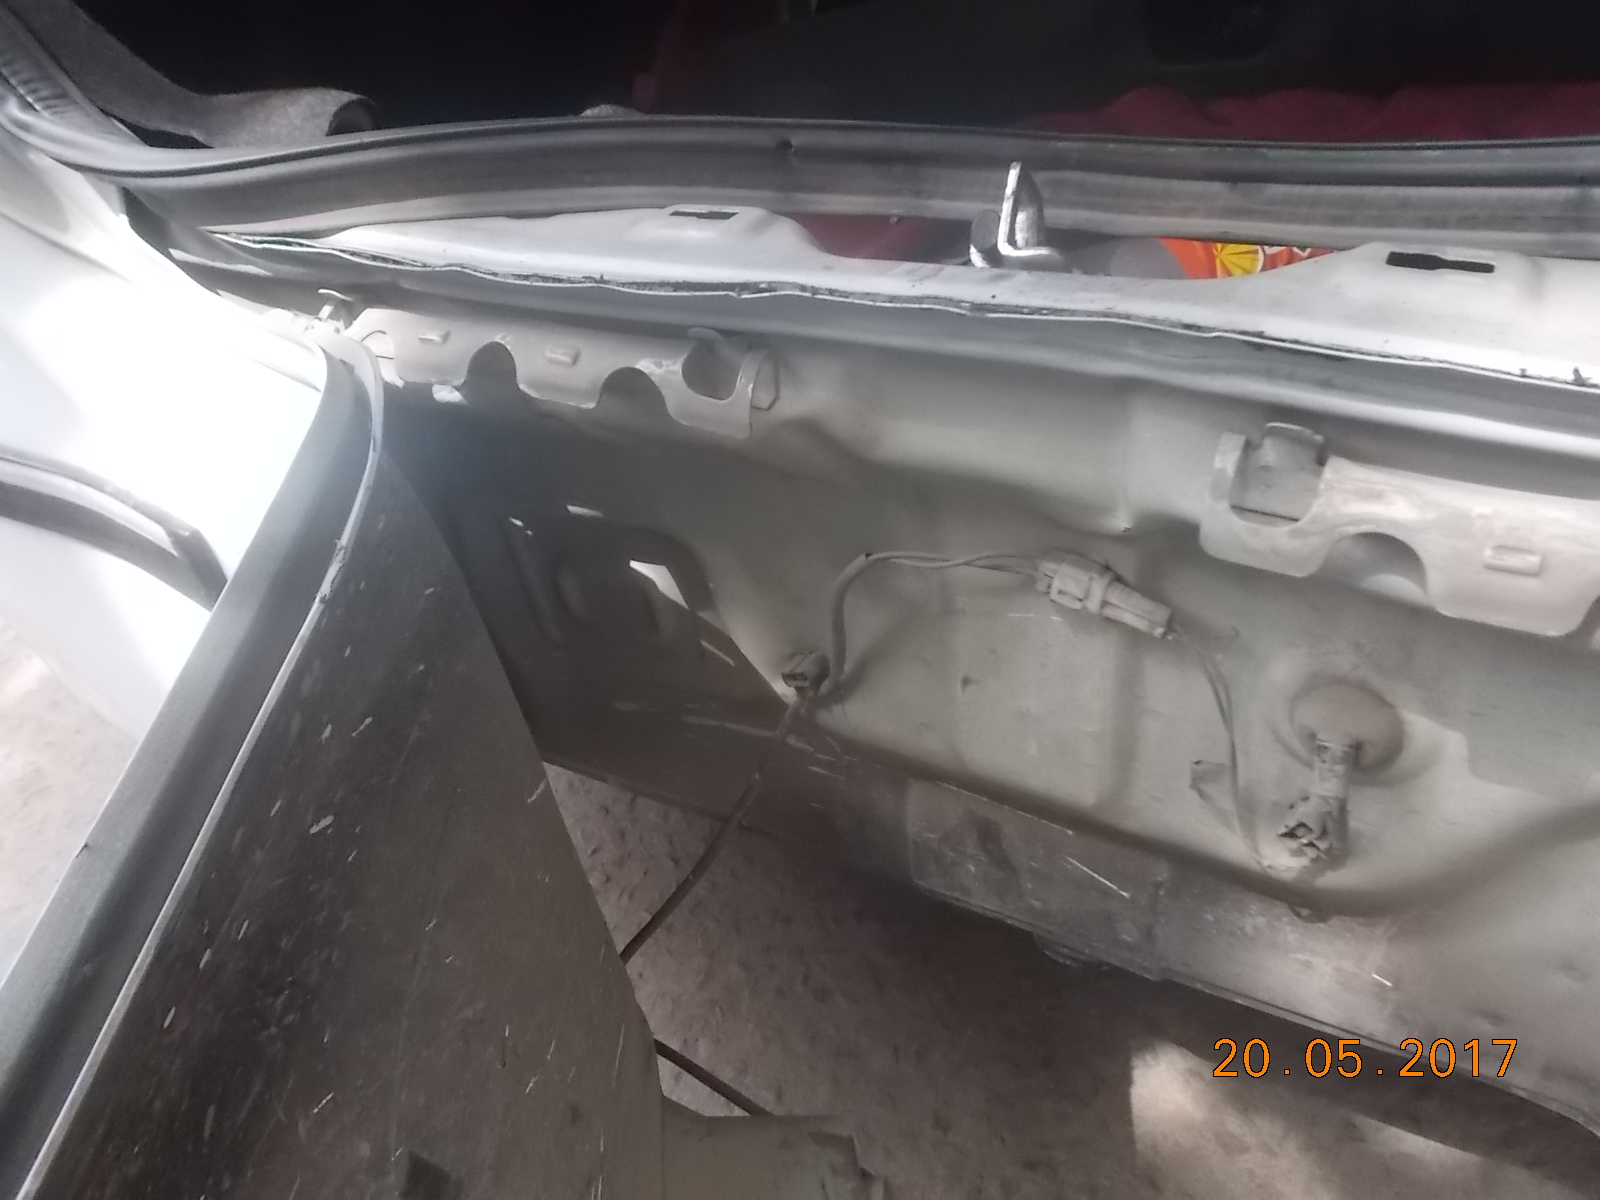Large_tear_or_damage: (350, 237, 1589, 979)
